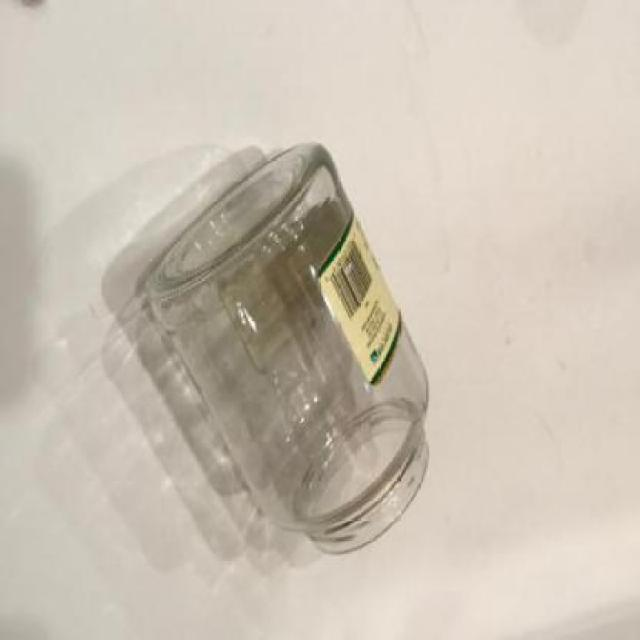GLASS: (148, 142, 430, 550)
